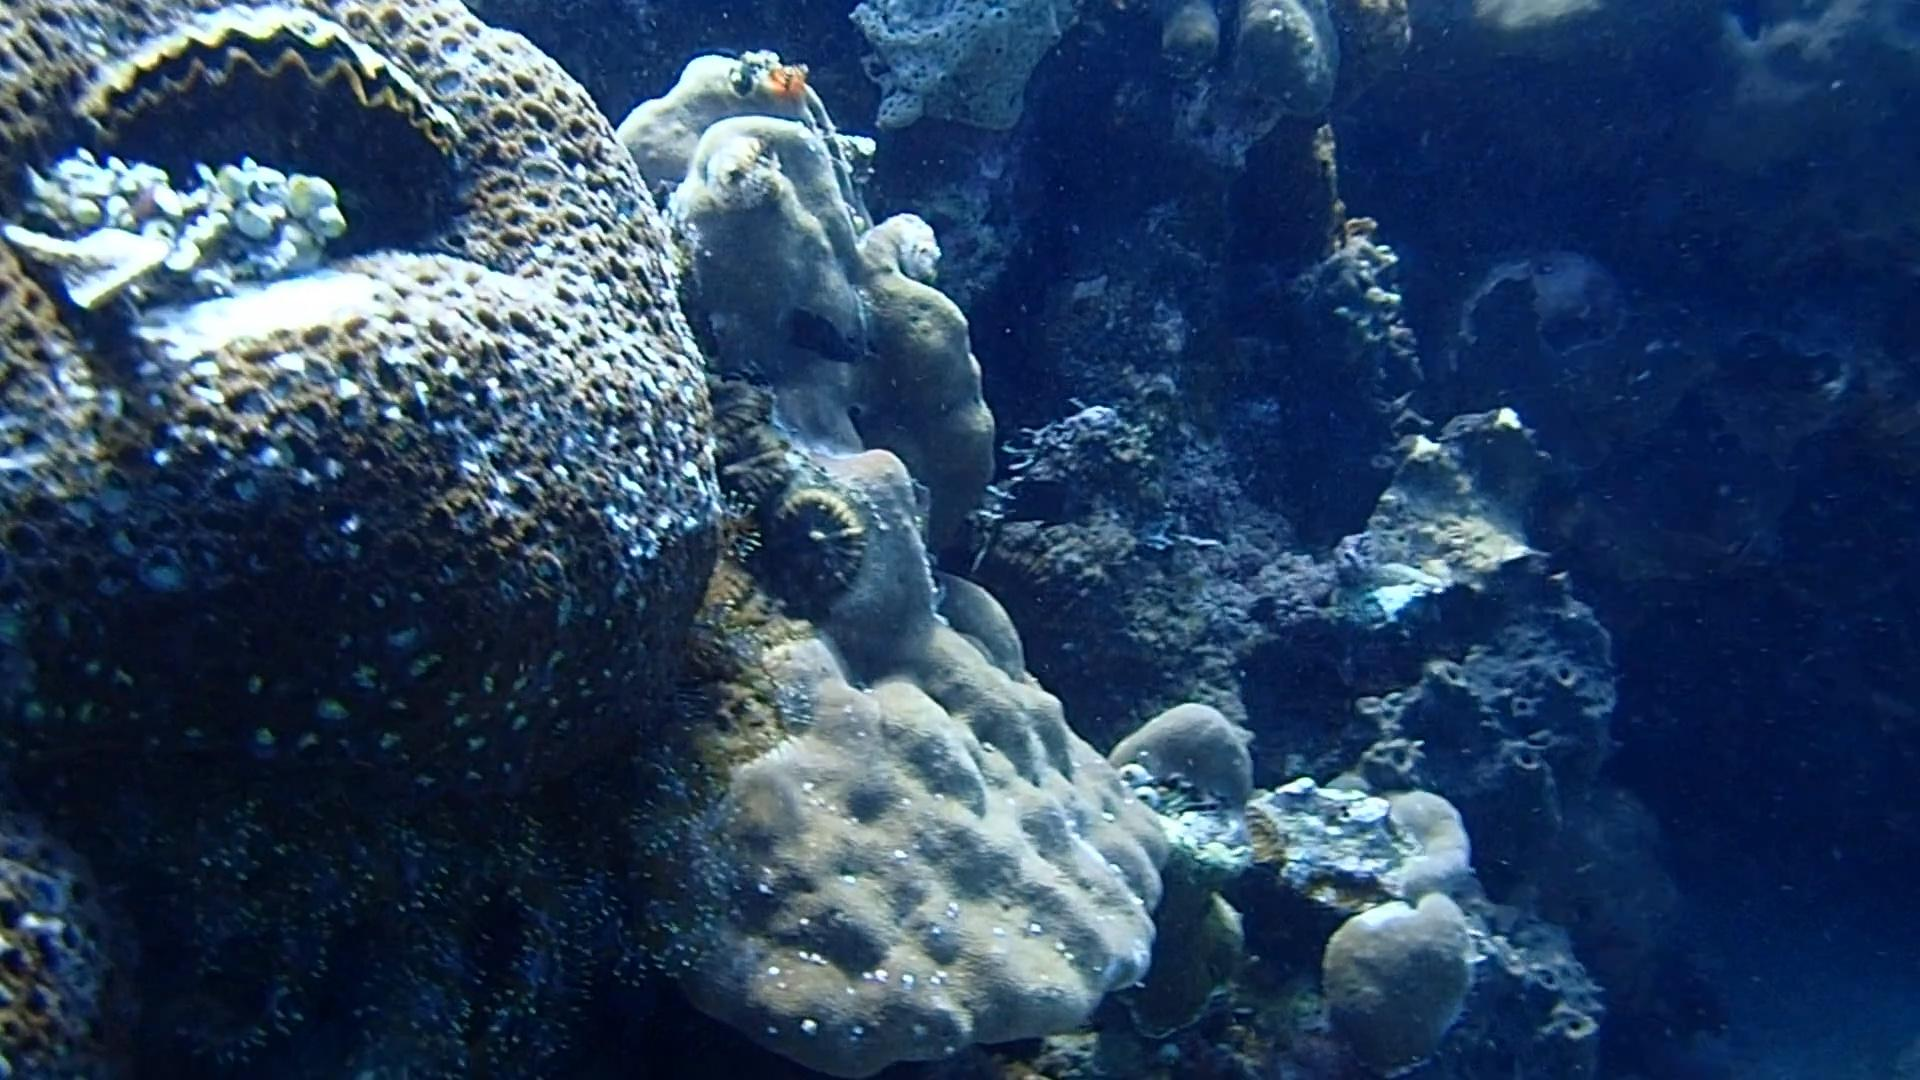Dark Fish: (976, 464, 1102, 537), (773, 294, 873, 373)
